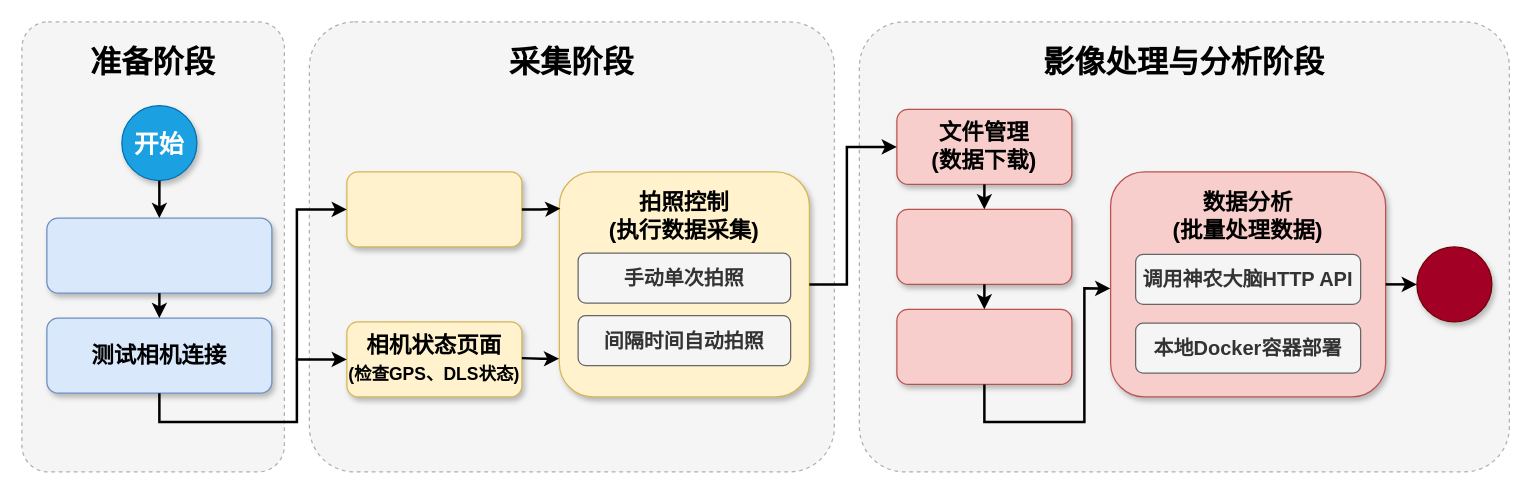
The diagram is 1531 pixels wide and 494 high, and some of its shapes have lost their labels. The shapes that lost their labels are listed below. From the top down, each one's centre as x and y in pixels, then its label:
At (x=435, y=211): "预览页面 (检查相机视野)".
At (x=160, y=257): "配置相机IP、端口".
At (x=985, y=248): "辐射定标".
At (x=1455, y=286): "结束".
At (x=985, y=348): "波段配准".
